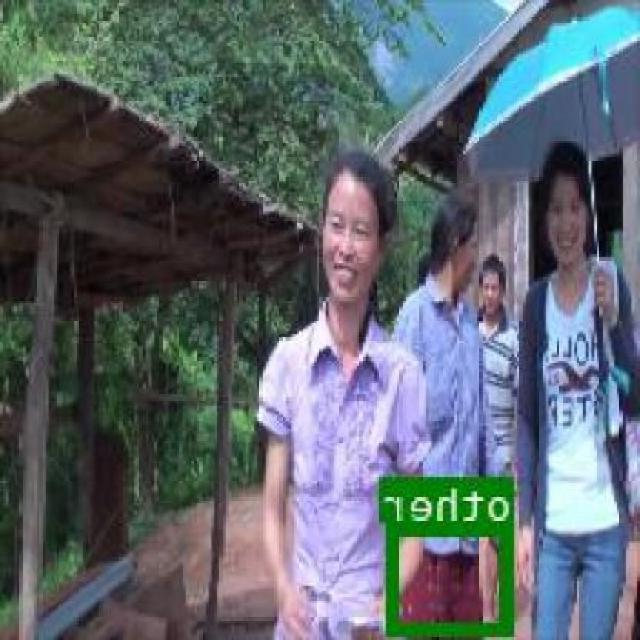other: (389, 520, 517, 634)
